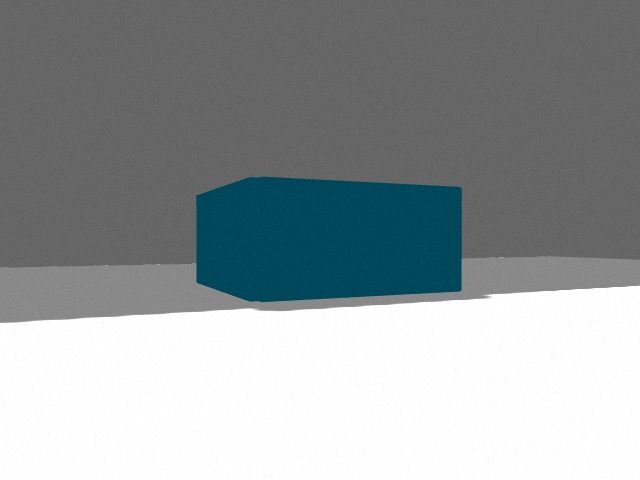blue_drop_zone: (196, 177, 462, 302)
